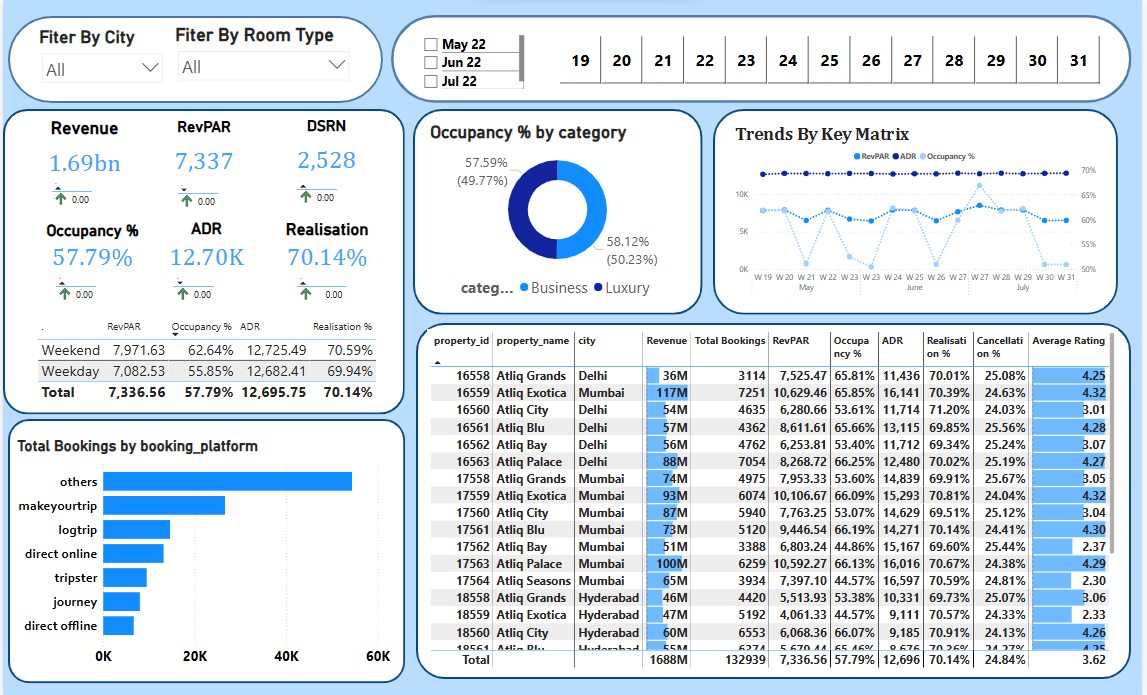

Layout of this report page (visuals, bound fields, positions):
{"tool":"powerbi","page":{"name":"Page 1","canvas":[1800,1100],"ordinal":0},"visuals":[{"type":"shape","box":[652.5,510,1130,562.5],"z":0},{"type":"shape","box":[7.5,662.5,627.5,417.5],"z":1000},{"type":"shape","box":[1122.5,172.5,640,325],"z":2000},{"type":"shape","box":[647.5,172.5,457.5,325],"z":3000},{"type":"shape","box":[0,172.5,635,482.5],"z":4000},{"type":"shape","box":[613.8,24.2,1170.4,138.6],"z":5000},{"type":"shape","box":[7.5,25,592.5,137.5],"z":6000},{"type":"tableEx","fields":{"Values":["dim_hotels.property_id","dim_hotels.property_name","dim_hotels.city","key_measures.Revenue","key_measures.Total Bookings","key_measures.RevPAR","key_measures.Occupancy %","key_measures.ADR (Average Daily rate)","key_measures.Realisation %","key_measures.Cancellation %","key_measures.Average Rating"]},"box":[670,520,1092,540],"z":7000},{"type":"slicer","title":"Fiter By City","fields":{"Values":["dim_hotels.city"]},"box":[52.5,42.5,210,102.5],"z":8000},{"type":"slicer","title":"Fiter By Room Type","fields":{"Values":["dim_rooms.room_class"]},"box":[267.5,37.5,290,115],"z":9000},{"type":"slicer","fields":{"Values":["dim_date.mmm yy"]},"box":[653.4,50.6,176,94.6],"z":10000},{"type":"slicer","fields":{"Values":["dim_date.wn"]},"box":[855.8,50.6,902,88],"z":11000},{"type":"donutChart","fields":{"Category":["dim_hotels.category"],"Y":["key_measures.Occupancy %"]},"box":[670,192.5,412.5,285],"z":12000},{"type":"lineChart","title":"Trends By Key Matrix","fields":{"Category":["dim_date.mmm yy.Variation.Date Hierarchy.Month","dim_date.week no"],"Y":["key_measures.RevPAR","key_measures.ADR"],"Y2":["key_measures.Occupancy %"]},"box":[1152.5,195,580,282.5],"z":13000},{"type":"card","title":"Occupancy %","fields":{"Values":["key_measures.Occupancy %"]},"box":[52.4,348.5,178.9,78.3],"z":15000},{"type":"tableEx","fields":{"Values":["dim_date.day type","key_measures.RevPAR","key_measures.Occupancy %","key_measures.ADR","key_measures.Realisation %"]},"box":[35,497.5,572.5,147.5],"z":16000},{"type":"tableEx","fields":{"Values":["key_measures.Revenue WoW change %"]},"box":[459,267.5,144.4,60],"z":17000},{"type":"card","title":"DSRN","fields":{"Values":["key_measures.DSRN"]},"box":[436.7,185.6,150,102.2],"z":18000},{"type":"card","title":"Realisation","fields":{"Values":["key_measures.Realisation %"]},"box":[425.8,346.3,174.4,85],"z":19000},{"type":"card","title":"ADR","fields":{"Values":["key_measures.ADR"]},"box":[231.2,346.3,181.1,85],"z":20000},{"type":"tableEx","fields":{"Values":["key_measures.Revenue WoW change %"]},"box":[76.7,421.1,121.1,66.7],"z":21000},{"type":"tableEx","fields":{"Values":["key_measures.Revenue WoW change %"]},"box":[263.4,420,121.1,65.6],"z":22000},{"type":"tableEx","fields":{"Values":["key_measures.Revenue WoW change %"]},"box":[458.9,420,121.1,77.8],"z":23000},{"type":"card","title":"RevPAR","fields":{"Values":["key_measures.RevPAR"]},"box":[233.4,186.7,167.8,103.3],"z":24000},{"type":"tableEx","fields":{"Values":["key_measures.Revenue WoW change %"]},"box":[269.9,274,119.7,62.9],"z":25000},{"type":"card","title":"Revenue","fields":{"Values":["key_measures.Revenue"]},"box":[35,186.7,188.3,103.3],"z":26000},{"type":"tableEx","fields":{"Values":["key_measures.Revenue WoW change %"]},"box":[71.4,270,111.4,70],"z":27000},{"type":"clusteredBarChart","fields":{"Category":["fact_bookings.booking_platform"],"Y":["key_measures.Total Bookings"]},"box":[17.5,690,600,370],"z":27001}]}

Visuals, with their boxes in screenshot pixels (x1, y1, x2, y2), scaled from the page's 1800x1100 canvas onto the 1147x695 screenshot:
shape: <bbox>416, 322, 1136, 678</bbox>
shape: <bbox>5, 419, 405, 682</bbox>
shape: <bbox>715, 109, 1123, 314</bbox>
shape: <bbox>413, 109, 704, 314</bbox>
shape: <bbox>0, 109, 405, 414</bbox>
shape: <bbox>391, 15, 1137, 103</bbox>
shape: <bbox>5, 16, 382, 103</bbox>
tableEx - dim_hotels.property_id x dim_hotels.property_name: <bbox>427, 329, 1123, 670</bbox>
"Fiter By City" slicer: <bbox>33, 27, 167, 92</bbox>
"Fiter By Room Type" slicer: <bbox>170, 24, 355, 96</bbox>
slicer - dim_date.mmm yy: <bbox>416, 32, 529, 92</bbox>
slicer - dim_date.wn: <bbox>545, 32, 1120, 88</bbox>
donutChart - dim_hotels.category x key_measures.Occupancy %: <bbox>427, 122, 690, 302</bbox>
"Trends By Key Matrix" lineChart: <bbox>734, 123, 1104, 302</bbox>
"Occupancy %" card: <bbox>33, 220, 147, 270</bbox>
tableEx - dim_date.day type x key_measures.RevPAR: <bbox>22, 314, 387, 408</bbox>
tableEx - key_measures.Revenue WoW change %: <bbox>292, 169, 384, 207</bbox>
"DSRN" card: <bbox>278, 117, 374, 182</bbox>
"Realisation" card: <bbox>271, 219, 382, 273</bbox>
"ADR" card: <bbox>147, 219, 263, 273</bbox>
tableEx - key_measures.Revenue WoW change %: <bbox>49, 266, 126, 308</bbox>
tableEx - key_measures.Revenue WoW change %: <bbox>168, 265, 245, 307</bbox>
tableEx - key_measures.Revenue WoW change %: <bbox>292, 265, 370, 315</bbox>
"RevPAR" card: <bbox>149, 118, 256, 183</bbox>
tableEx - key_measures.Revenue WoW change %: <bbox>172, 173, 248, 213</bbox>
"Revenue" card: <bbox>22, 118, 142, 183</bbox>
tableEx - key_measures.Revenue WoW change %: <bbox>45, 171, 116, 215</bbox>
clusteredBarChart - fact_bookings.booking_platform x key_measures.Total Bookings: <bbox>11, 436, 393, 670</bbox>
